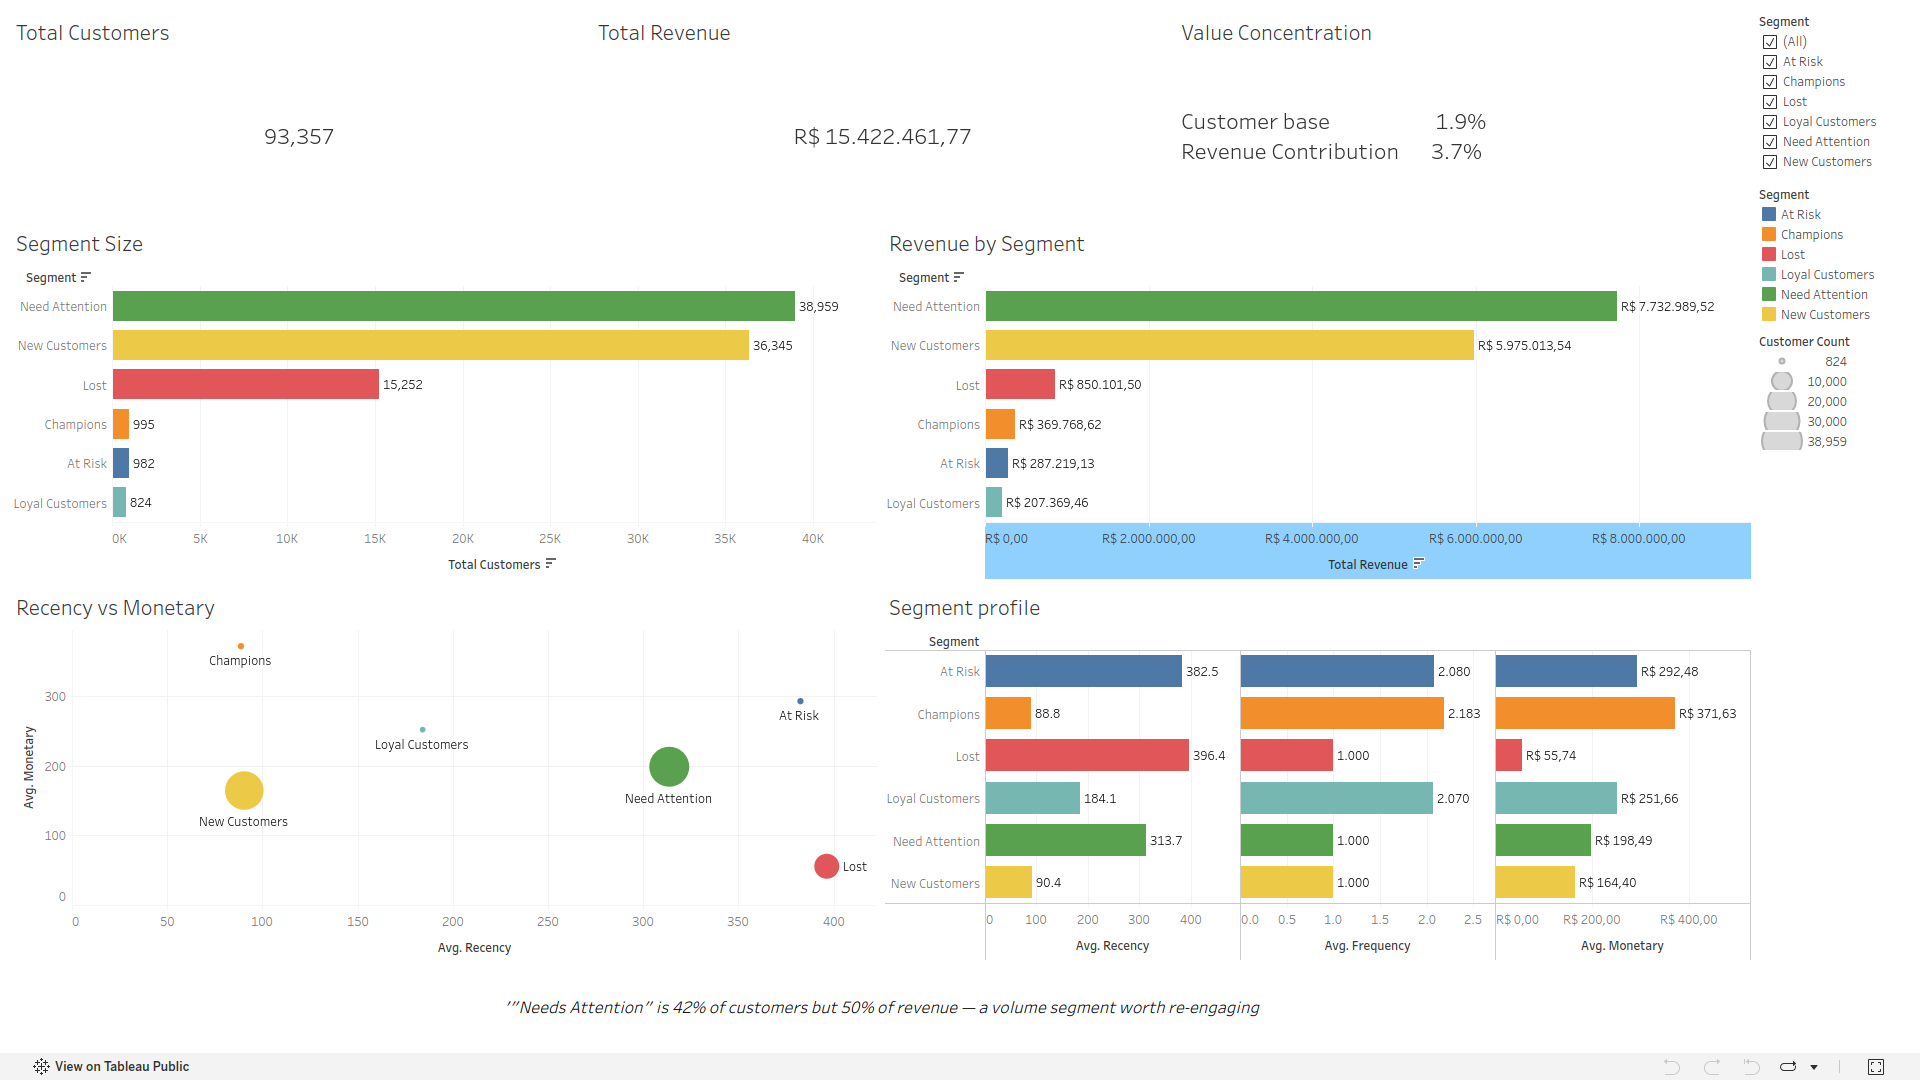

What the dashboard file says about the page in this screenshot:
{"tool":"tableau","page":{"name":"Customer Segmentation","canvas":[1000,1000],"units":"permille","ordinal":0},"visuals":[{"type":"worksheet","title":"Total Customers","mark":"Text","box":[5.1,9.9,296.8,199.4]},{"type":"worksheet","title":"Total Revenue","mark":"Text","box":[301.8,9.9,296.8,199.4]},{"type":"worksheet","title":"Value Concentration","mark":"Text","box":[598.6,9.9,296.8,199.4]},{"type":"filter","title":"Revenue by Segment","param":"[federated.0pjbrla0jam8nu17q2gv40xmetnr].[none:segment:nk]","box":[895.4,9.9,99.6,214.4]},{"type":"worksheet","title":"Segment Size","mark":"Bar","rows":["segment"],"cols":["Calculation_0014958895390849"],"box":[5.1,209.3,445.2,344.5]},{"type":"worksheet","title":"Revenue by Segment","mark":"Bar","rows":["segment"],"cols":["Calculation_0014958896332931"],"box":[450.2,209.3,445.2,344.5]},{"type":"legend","title":"Revenue by Segment","param":"[federated.0pjbrla0jam8nu17q2gv40xmetnr].[none:segment:nk]","box":[895.4,224.3,99.6,182.2]},{"type":"legend","title":"Recency vs Monetary","param":"[federated.0pjbrla0jam8nu17q2gv40xmetnr].[ctd:customer_unique_id:qk]","box":[895.4,406.4,99.6,157.4]},{"type":"worksheet","title":"Recency vs Monetary","mark":"Circle","rows":["monetary"],"cols":["recency"],"box":[5.1,553.8,445.1,361.8]},{"type":"worksheet","title":"Segment profile","mark":"Automatic","rows":["segment"],"cols":["recency","frequency","monetary"],"box":[450.2,553.8,445.2,361.8]},{"type":"text","box":[5.1,915.7,890.3,74.4]}]}

Visuals, with their boxes on the dashboard's canvas, which has no fixed pixel size, in thousandths of its width and height (x1, y1, x2, y2). These are canvas units, not pixel positions in the 1920x1080 screenshot, which may show the page scaled, cropped or inside an application window:
"Total Customers" worksheet (Text marks): [5, 10, 302, 209]
"Total Revenue" worksheet (Text marks): [302, 10, 599, 209]
"Value Concentration" worksheet (Text marks): [599, 10, 895, 209]
"Revenue by Segment" filter: [895, 10, 995, 224]
"Segment Size" worksheet (Bar marks): [5, 209, 450, 554]
"Revenue by Segment" worksheet (Bar marks): [450, 209, 895, 554]
"Revenue by Segment" legend: [895, 224, 995, 406]
"Recency vs Monetary" legend: [895, 406, 995, 564]
"Recency vs Monetary" worksheet (Circle marks): [5, 554, 450, 916]
"Segment profile" worksheet: [450, 554, 895, 916]
text: [5, 916, 895, 990]
